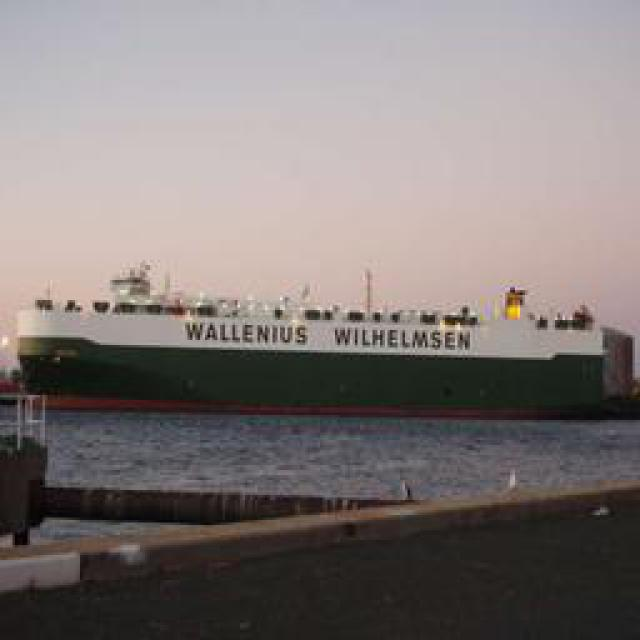Ship: (20, 276, 608, 381)
